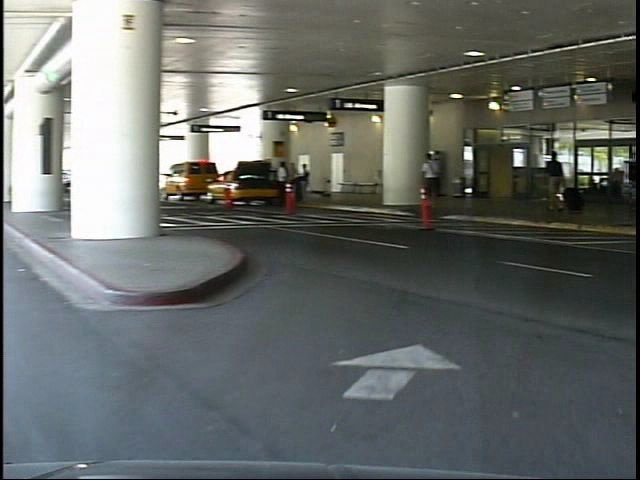person: (547, 147, 575, 223), (425, 149, 451, 215)
